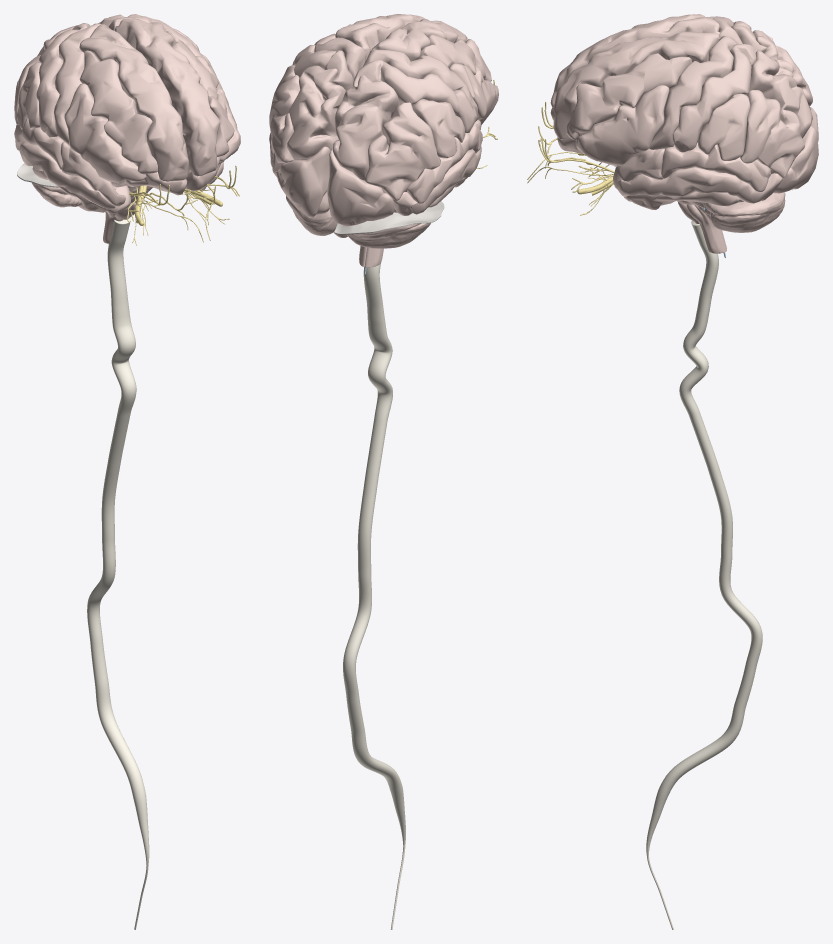
File: nerves.glb
3 views of the same model, side by side, from view 1: azimuth 30°, elevation 25°; view 2: azimuth 150°, elevation 25°; view 3: azimuth 270°, elevation 25° (orthographic).
Visible parts, largest first — view 1: Spinal cord, Right superior frontal gyrus, Left superior frontal gyrus, Right middle frontal gyrus, Right inferior frontal gyrus, Right precentral gyrus, Right postcentral gyrus, Right middle temporal gyrus, Left middle frontal gyrus, Anterior part of right superior temporal gyrus, Right supramarginal gyrus, Posterior part of right superior temporal gyrus (+5 smaller); view 2: Spinal cord, Right angular gyrus, Right superior parietal lobule, Left superior parietal lobule, Right occipital lobe, Right postcentral gyrus, Left occipital lobe, Cerebellum (×2), Right superior frontal gyrus, Right supramarginal gyrus, Right precentral gyrus, Left angular gyrus (+8 smaller); view 3: Spinal cord, Left superior frontal gyrus, Left middle frontal gyrus, Left inferior frontal gyrus, Left angular gyrus, Left middle temporal gyrus, Left postcentral gyrus, Left precentral gyrus, Right superior frontal gyrus, Left supramarginal gyrus, Left superior parietal lobule, Posterior part of left superior temporal gyrus (+6 smaller).
Boxes of the visible parts, <box> form: Spinal cord: <box>87,217,149,929</box>; Right superior frontal gyrus: <box>79,24,189,181</box>; Left superior frontal gyrus: <box>115,18,220,176</box>; Right middle frontal gyrus: <box>79,50,157,174</box>; Right inferior frontal gyrus: <box>64,83,146,182</box>; Right precentral gyrus: <box>54,23,101,145</box>; Right postcentral gyrus: <box>36,23,90,137</box>; Right middle temporal gyrus: <box>19,141,115,209</box>; Left middle frontal gyrus: <box>166,30,234,157</box>; Anterior part of right superior temporal gyrus: <box>60,141,125,206</box>; Right supramarginal gyrus: <box>17,62,41,129</box>; Posterior part of right superior temporal gyrus: <box>14,118,63,169</box>; Spinal cord: <box>343,262,405,929</box>; Right angular gyrus: <box>364,102,440,200</box>; Right superior parietal lobule: <box>332,75,399,180</box>; Left superior parietal lobule: <box>287,65,345,160</box>; Right occipital lobe: <box>327,148,394,226</box>; Right postcentral gyrus: <box>353,59,476,132</box>; Left occipital lobe: <box>276,146,330,217</box>; Cerebellum (×2): <box>286,195,430,248</box>; Right superior frontal gyrus: <box>371,18,468,61</box>; Right supramarginal gyrus: <box>412,99,465,158</box>; Right precentral gyrus: <box>363,49,478,121</box>; Left angular gyrus: <box>269,75,299,171</box>; Spinal cord: <box>646,220,762,929</box>; Left superior frontal gyrus: <box>550,31,720,139</box>; Left middle frontal gyrus: <box>566,53,692,140</box>; Left inferior frontal gyrus: <box>575,85,669,165</box>; Left angular gyrus: <box>740,90,804,177</box>; Left middle temporal gyrus: <box>617,167,782,203</box>; Left postcentral gyrus: <box>672,44,757,152</box>; Left precentral gyrus: <box>649,36,736,149</box>; Right superior frontal gyrus: <box>550,14,720,107</box>; Left supramarginal gyrus: <box>698,93,750,160</box>; Left superior parietal lobule: <box>746,50,812,138</box>; Posterior part of left superior temporal gyrus: <box>661,142,770,191</box>.
Size of the model in its own units: 0.1408 by 0.6693 by 0.1958.
